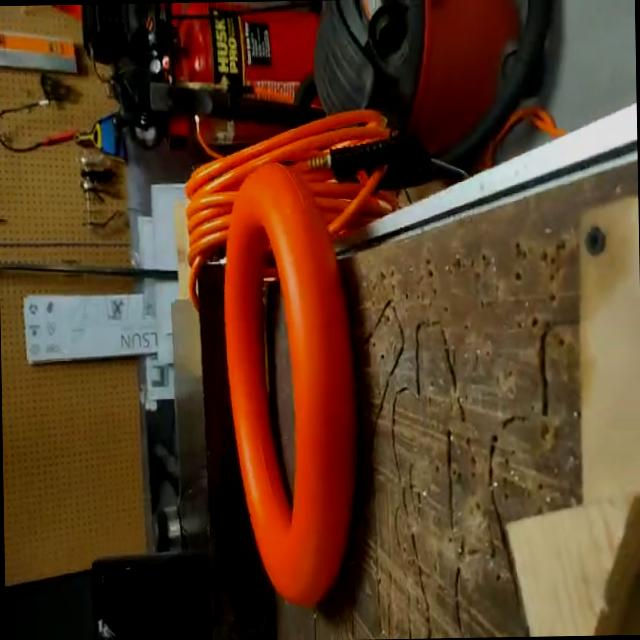note: (220, 157, 358, 612)
